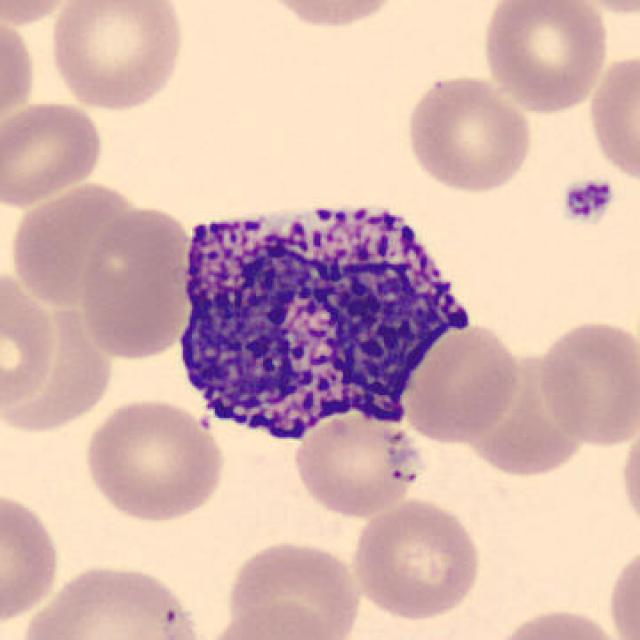basophil: (186, 204, 472, 453)
platelets: (558, 174, 620, 227)
rbc: (77, 207, 194, 357), (399, 74, 536, 190), (345, 502, 482, 616), (90, 401, 222, 518), (15, 190, 140, 313), (407, 328, 518, 447), (490, 345, 587, 480), (54, 0, 181, 102), (19, 300, 115, 434), (485, 0, 603, 108), (221, 537, 359, 629), (542, 316, 640, 443), (35, 569, 199, 640), (298, 421, 416, 513), (2, 105, 100, 203), (0, 480, 59, 628), (0, 272, 55, 404), (587, 49, 640, 179), (227, 600, 339, 640), (503, 603, 613, 640), (284, 0, 402, 31), (0, 18, 36, 110), (604, 550, 640, 640), (0, 0, 59, 27), (623, 435, 640, 528), (598, 0, 640, 23)
